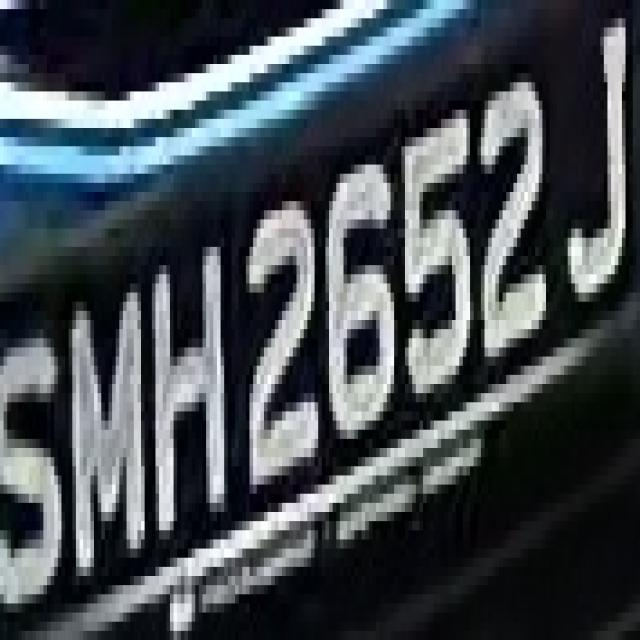2: (235, 174, 325, 503), (470, 55, 550, 356)
5: (391, 92, 470, 420)
6: (318, 137, 402, 430)
H: (156, 220, 232, 521)
J: (557, 9, 640, 320)
M: (65, 247, 148, 576)
S: (7, 293, 65, 622)
